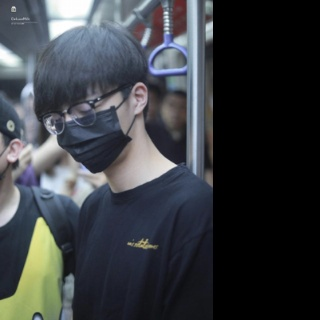with_mask: (48, 85, 136, 174)
